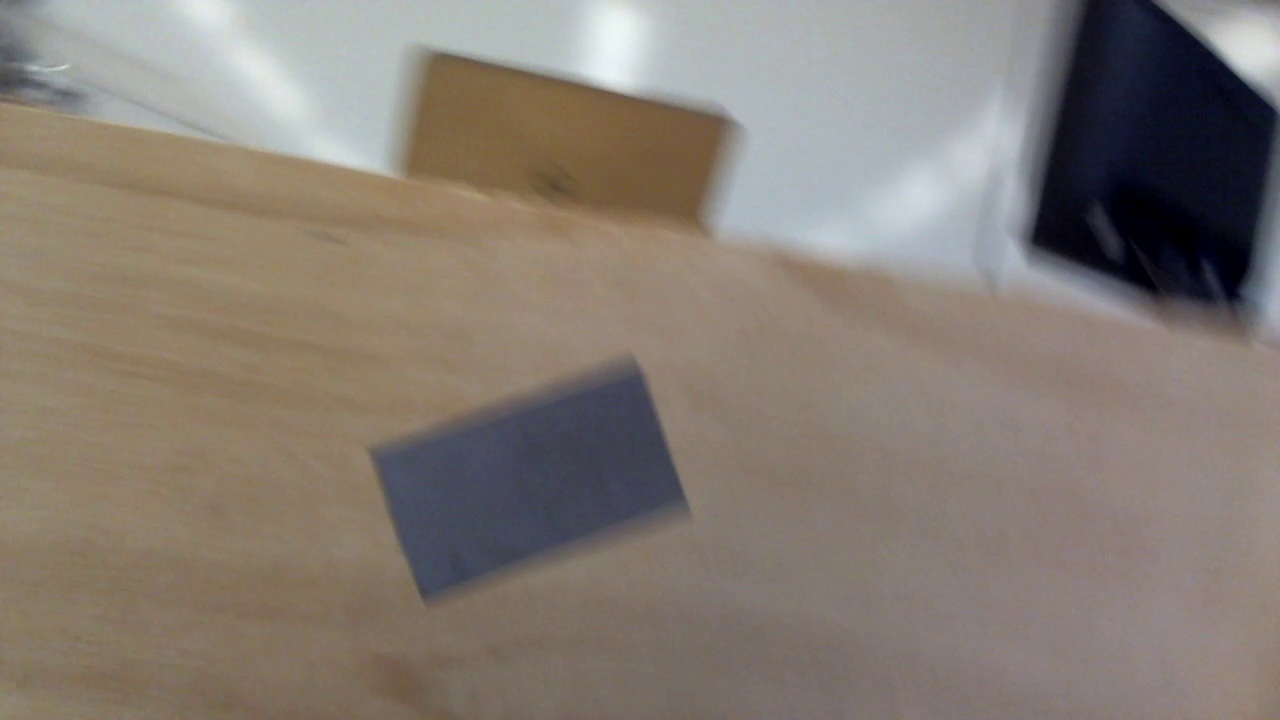Tape: (367, 358, 693, 606)
